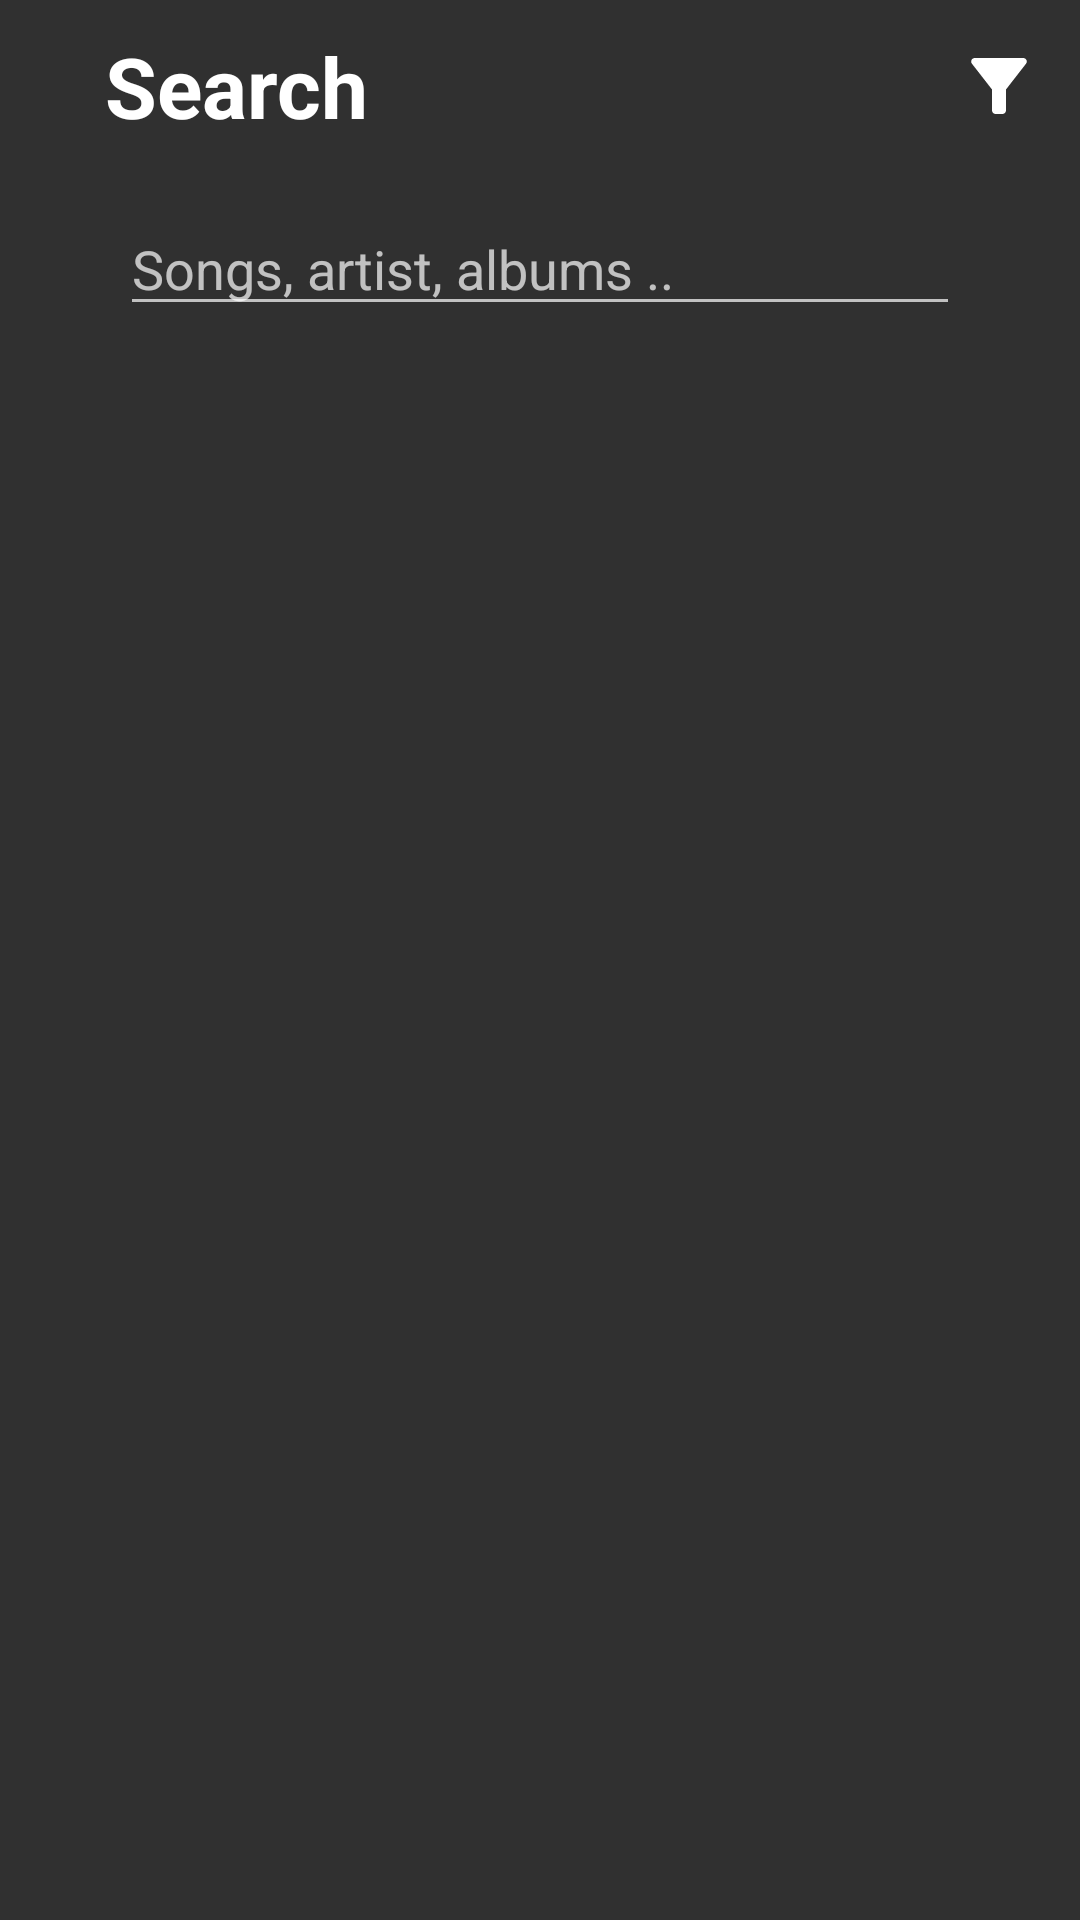

Locate icon controls on the screen. Image size 1080px x 1920px, boxes as [left=x1, top=y1, right=x2, bottom=y2].
filter: [left=971, top=58, right=1027, bottom=114]
